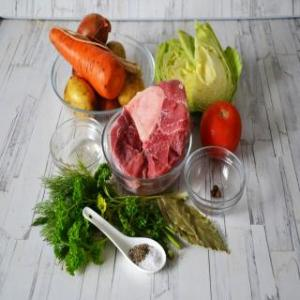cabbage: (166, 30, 232, 98)
carrot: (60, 34, 122, 90)
potato: (65, 77, 93, 109)
tomato: (200, 102, 242, 148)
